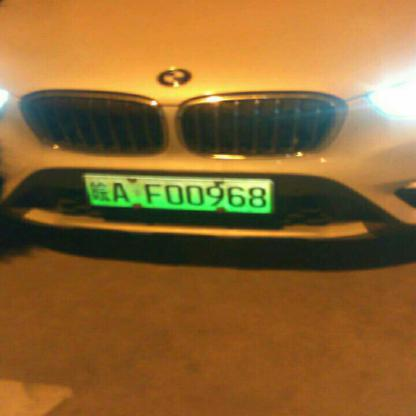lp: (84, 176, 272, 213)
